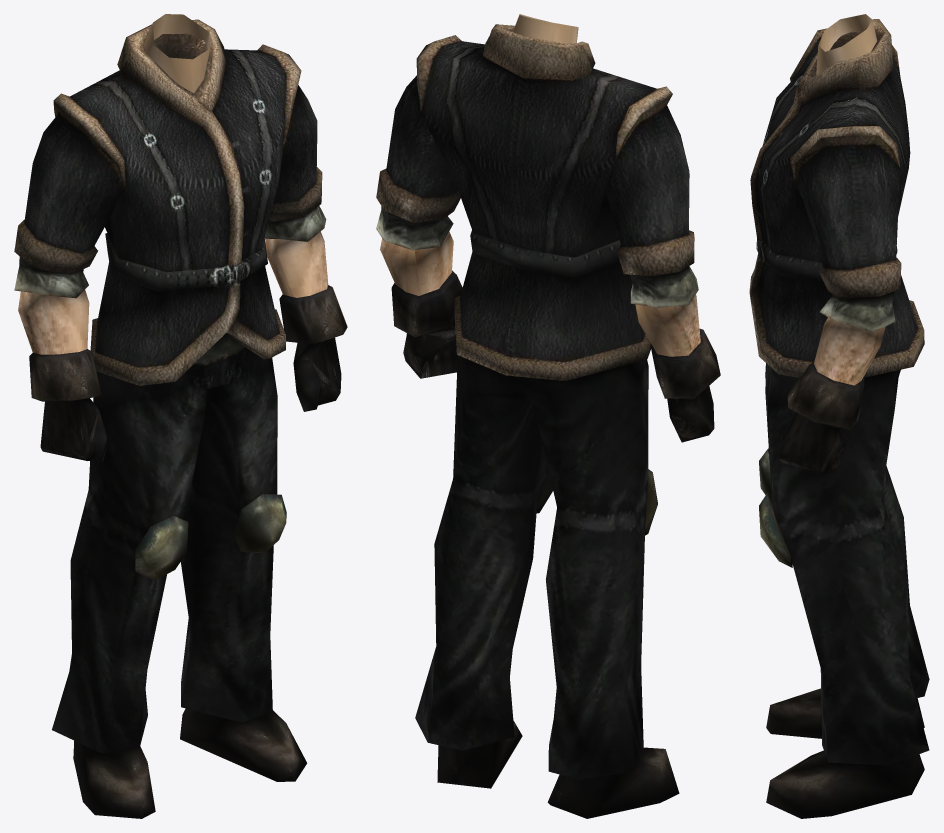
File: ARMOR_GERALT_ADDON_GRD1.glb
3 renders of one model, left to right at view 1: azimuth 30°, elevation 25°; view 2: azimuth 150°, elevation 25°; view 3: azimuth 270°, elevation 25°, orthographic. The views are drawn at different scales.
Visible parts, largest first — view 1: ARMOR_GERALT_ADDON_GRD1; view 2: ARMOR_GERALT_ADDON_GRD1; view 3: ARMOR_GERALT_ADDON_GRD1.
Part boxes in pixels (bbox=[...]): ARMOR_GERALT_ADDON_GRD1: bbox=[14, 14, 347, 818]; ARMOR_GERALT_ADDON_GRD1: bbox=[376, 14, 720, 818]; ARMOR_GERALT_ADDON_GRD1: bbox=[749, 14, 929, 818].
Size of the model in its own units: 0.7142 by 1.67 by 0.3654.
2 materials, 2 textured.
